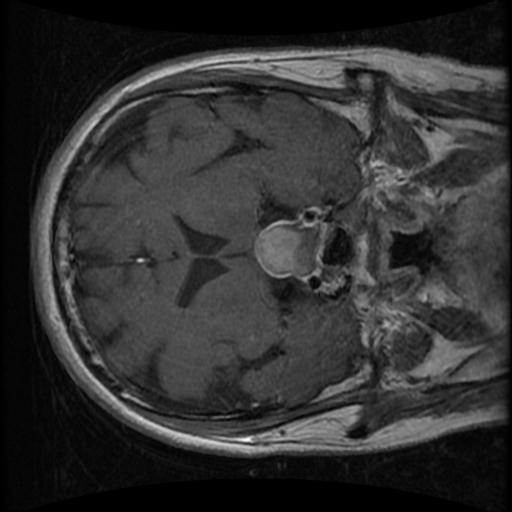pituitary tumour: (252, 222, 324, 280)
